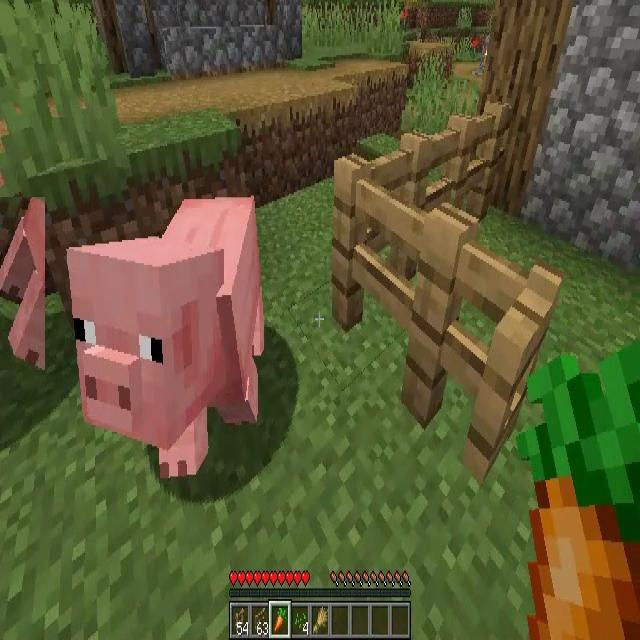pig: (67, 200, 265, 477), (0, 197, 45, 370)
